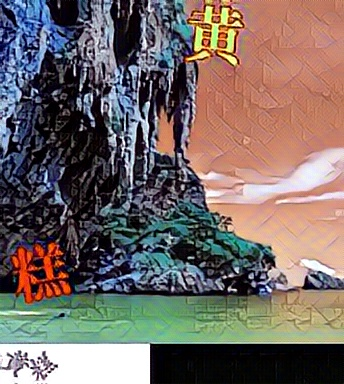B8E2: (8, 240, 70, 304)
BBC6: (182, 4, 244, 68)
